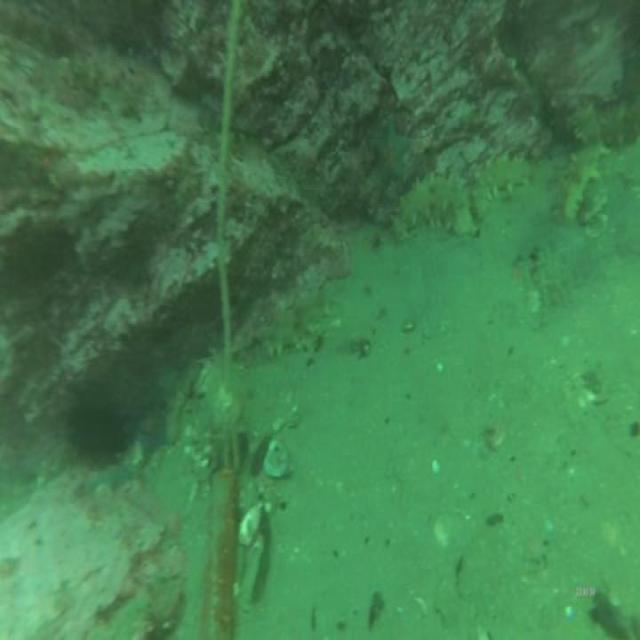echinus: (65, 397, 131, 471)
holothurian: (256, 286, 340, 360), (393, 164, 472, 240), (564, 100, 612, 221), (468, 150, 537, 220)
starfish: (133, 397, 175, 469), (89, 460, 134, 498)
